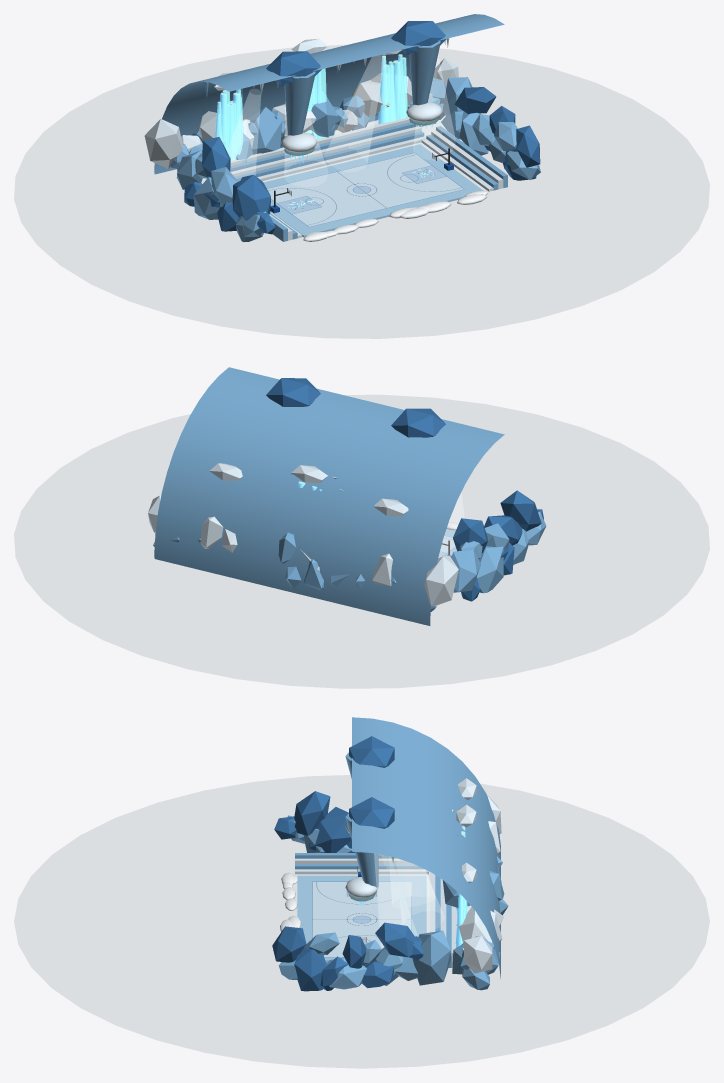
File: arena_glacier.glb
The picture shows the model from 3 angles, top to bottom: view 1: azimuth 30°, elevation 25°; view 2: azimuth 150°, elevation 25°; view 3: azimuth 270°, elevation 25°; orthographic projection.
Visible parts, largest first — view 1: cavern_floor, cavern_dome, court_floor, court_apron, light_shaft_2, light_shaft_4, light_shaft_3, frozen_waterfall_03, frozen_waterfall_01, light_shaft_1, hazard_icicle_home_column, hazard_icicle_away_column (+29 smaller); view 2: cavern_floor, cavern_dome, wall_block_01, hazard_icicle_home_column_cap, hazard_icicle_away_column_cap, wall_block_home_12, wall_block_home_5, wall_block_home_1, wall_block_home_4, light_shaft_4, wall_block_home_10, wall_block_28 (+1 smaller); view 3: cavern_floor, cavern_dome, court_floor, court_apron, light_shaft_2, light_shaft_3, wall_block_away_1, light_shaft_1, wall_block_home_10, wall_block_home_12, wall_block_away_12, hazard_icicle_away_column_cap (+11 smaller).
Part boxes in pixels (bbox=[...]): cavern_floor: bbox=[14, 44, 709, 338]; cavern_dome: bbox=[154, 14, 504, 174]; court_floor: bbox=[267, 153, 463, 226]; court_apron: bbox=[263, 144, 483, 237]; light_shaft_2: bbox=[325, 54, 385, 171]; light_shaft_4: bbox=[227, 89, 260, 181]; light_shaft_3: bbox=[413, 55, 455, 160]; frozen_waterfall_03: bbox=[378, 54, 407, 124]; frozen_waterfall_01: bbox=[215, 89, 243, 160]; light_shaft_1: bbox=[284, 102, 327, 186]; hazard_icicle_home_column: bbox=[284, 71, 315, 135]; hazard_icicle_away_column: bbox=[409, 41, 440, 105]; cavern_floor: bbox=[14, 394, 709, 688]; cavern_dome: bbox=[154, 367, 504, 625]; wall_block_01: bbox=[424, 555, 458, 606]; hazard_icicle_home_column_cap: bbox=[391, 408, 445, 437]; hazard_icicle_away_column_cap: bbox=[266, 378, 320, 406]; wall_block_home_12: bbox=[500, 490, 541, 531]; wall_block_home_5: bbox=[477, 546, 503, 593]; wall_block_home_1: bbox=[451, 549, 480, 592]; wall_block_home_4: bbox=[453, 518, 487, 553]; light_shaft_4: bbox=[438, 492, 464, 557]; wall_block_home_10: bbox=[484, 515, 522, 545]; wall_block_28: bbox=[200, 516, 223, 548]; cavern_floor: bbox=[14, 775, 709, 1068]; cavern_dome: bbox=[352, 717, 500, 978]; court_floor: bbox=[312, 882, 411, 957]; court_apron: bbox=[297, 875, 426, 960]; light_shaft_2: bbox=[396, 858, 444, 934]; light_shaft_3: bbox=[374, 853, 417, 948]; wall_block_away_1: bbox=[412, 930, 451, 985]; light_shaft_1: bbox=[389, 857, 435, 904]; wall_block_home_10: bbox=[308, 807, 351, 852]; wall_block_home_12: bbox=[294, 791, 330, 835]; wall_block_away_12: bbox=[294, 947, 326, 991]; hazard_icicle_away_column_cap: bbox=[349, 797, 394, 828].
Bounding box in the file's own units: 140 × 43.61 × 140.
